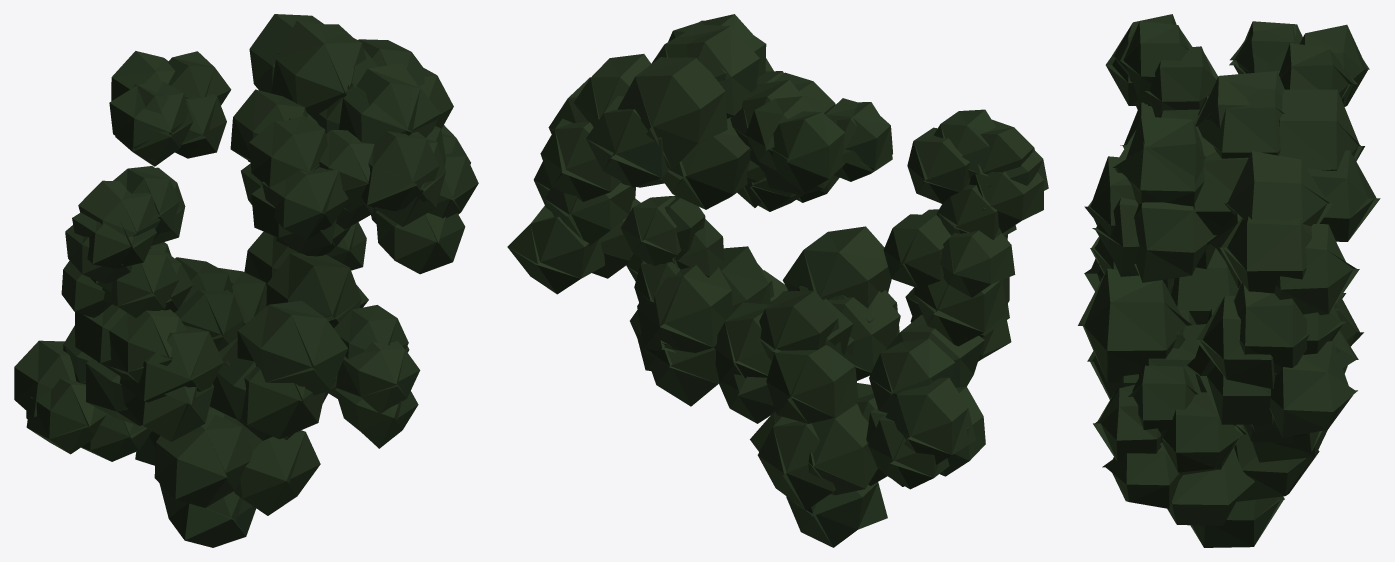
Rendered from tree_m3_far.obj.
3 renders of one model, left to right at view 1: azimuth 30°, elevation 25°; view 2: azimuth 150°, elevation 25°; view 3: azimuth 270°, elevation 25°, orthographic. The views are drawn at different scales.
Size of the model in its own units: 1.75 by 1.8 by 0.9335.
Materials: 1 (1 with a texture image).
